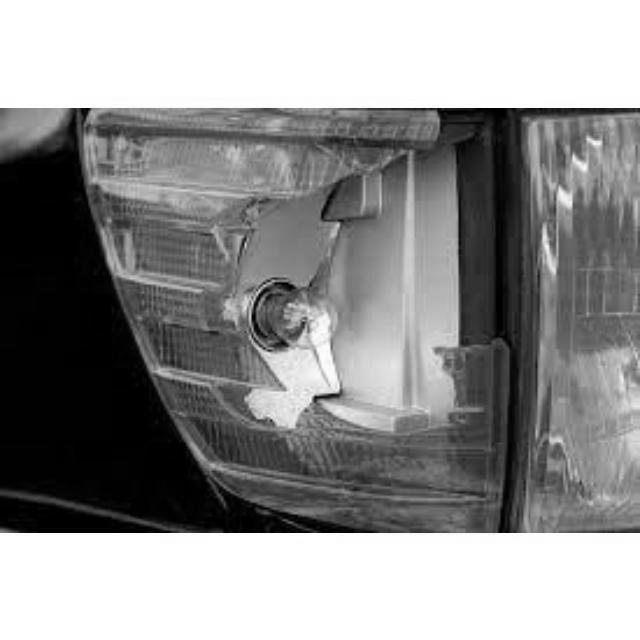Headlight-damage: (136, 108, 620, 489)
